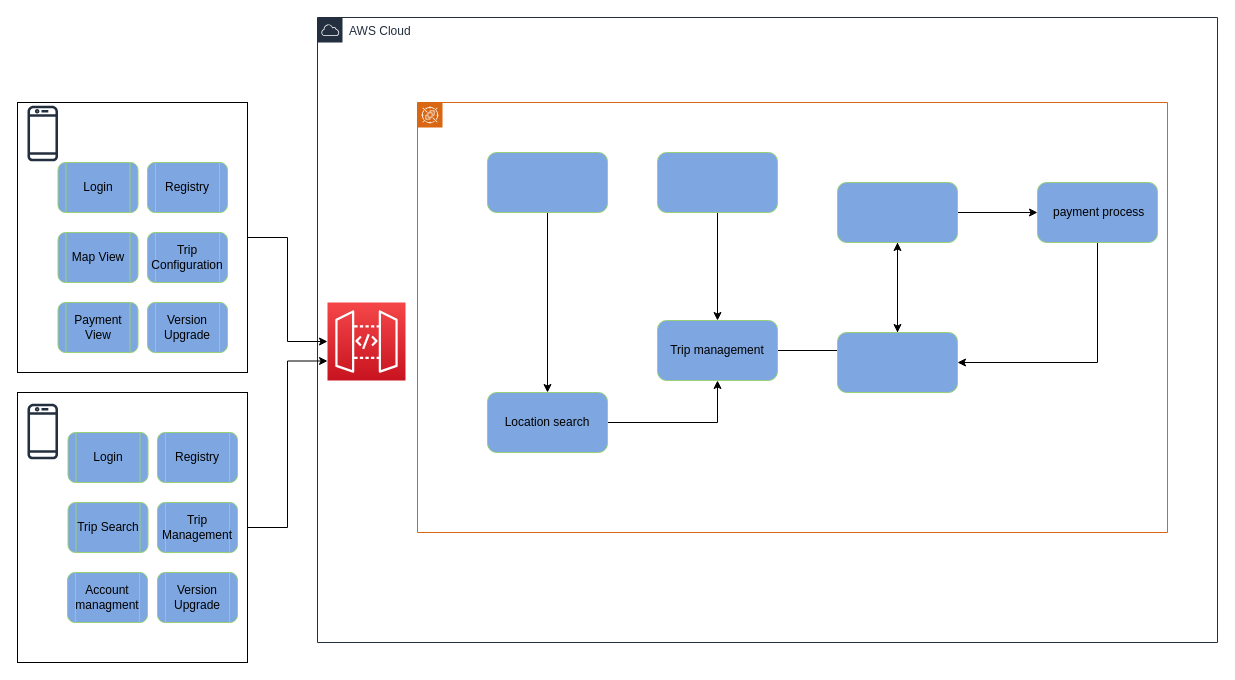
Image size: 1235x680. Some labels were removed from this diagram. The shapes that lost their labels are listed below. From the top down, each one's box as (x1, y1, x2, y2) in pixels, then its label:
(486, 152, 608, 212): Passenger login
(656, 152, 778, 212): Driver login
(836, 182, 958, 242): Transaction process
(16, 102, 248, 372): Passenger APP
(416, 102, 1168, 532): Business Services
(836, 332, 958, 392): Notification process
(16, 392, 248, 662): Driver APP
